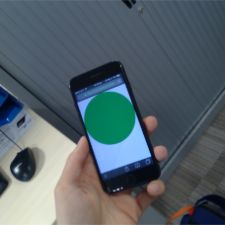focus: (78, 90, 139, 148)
